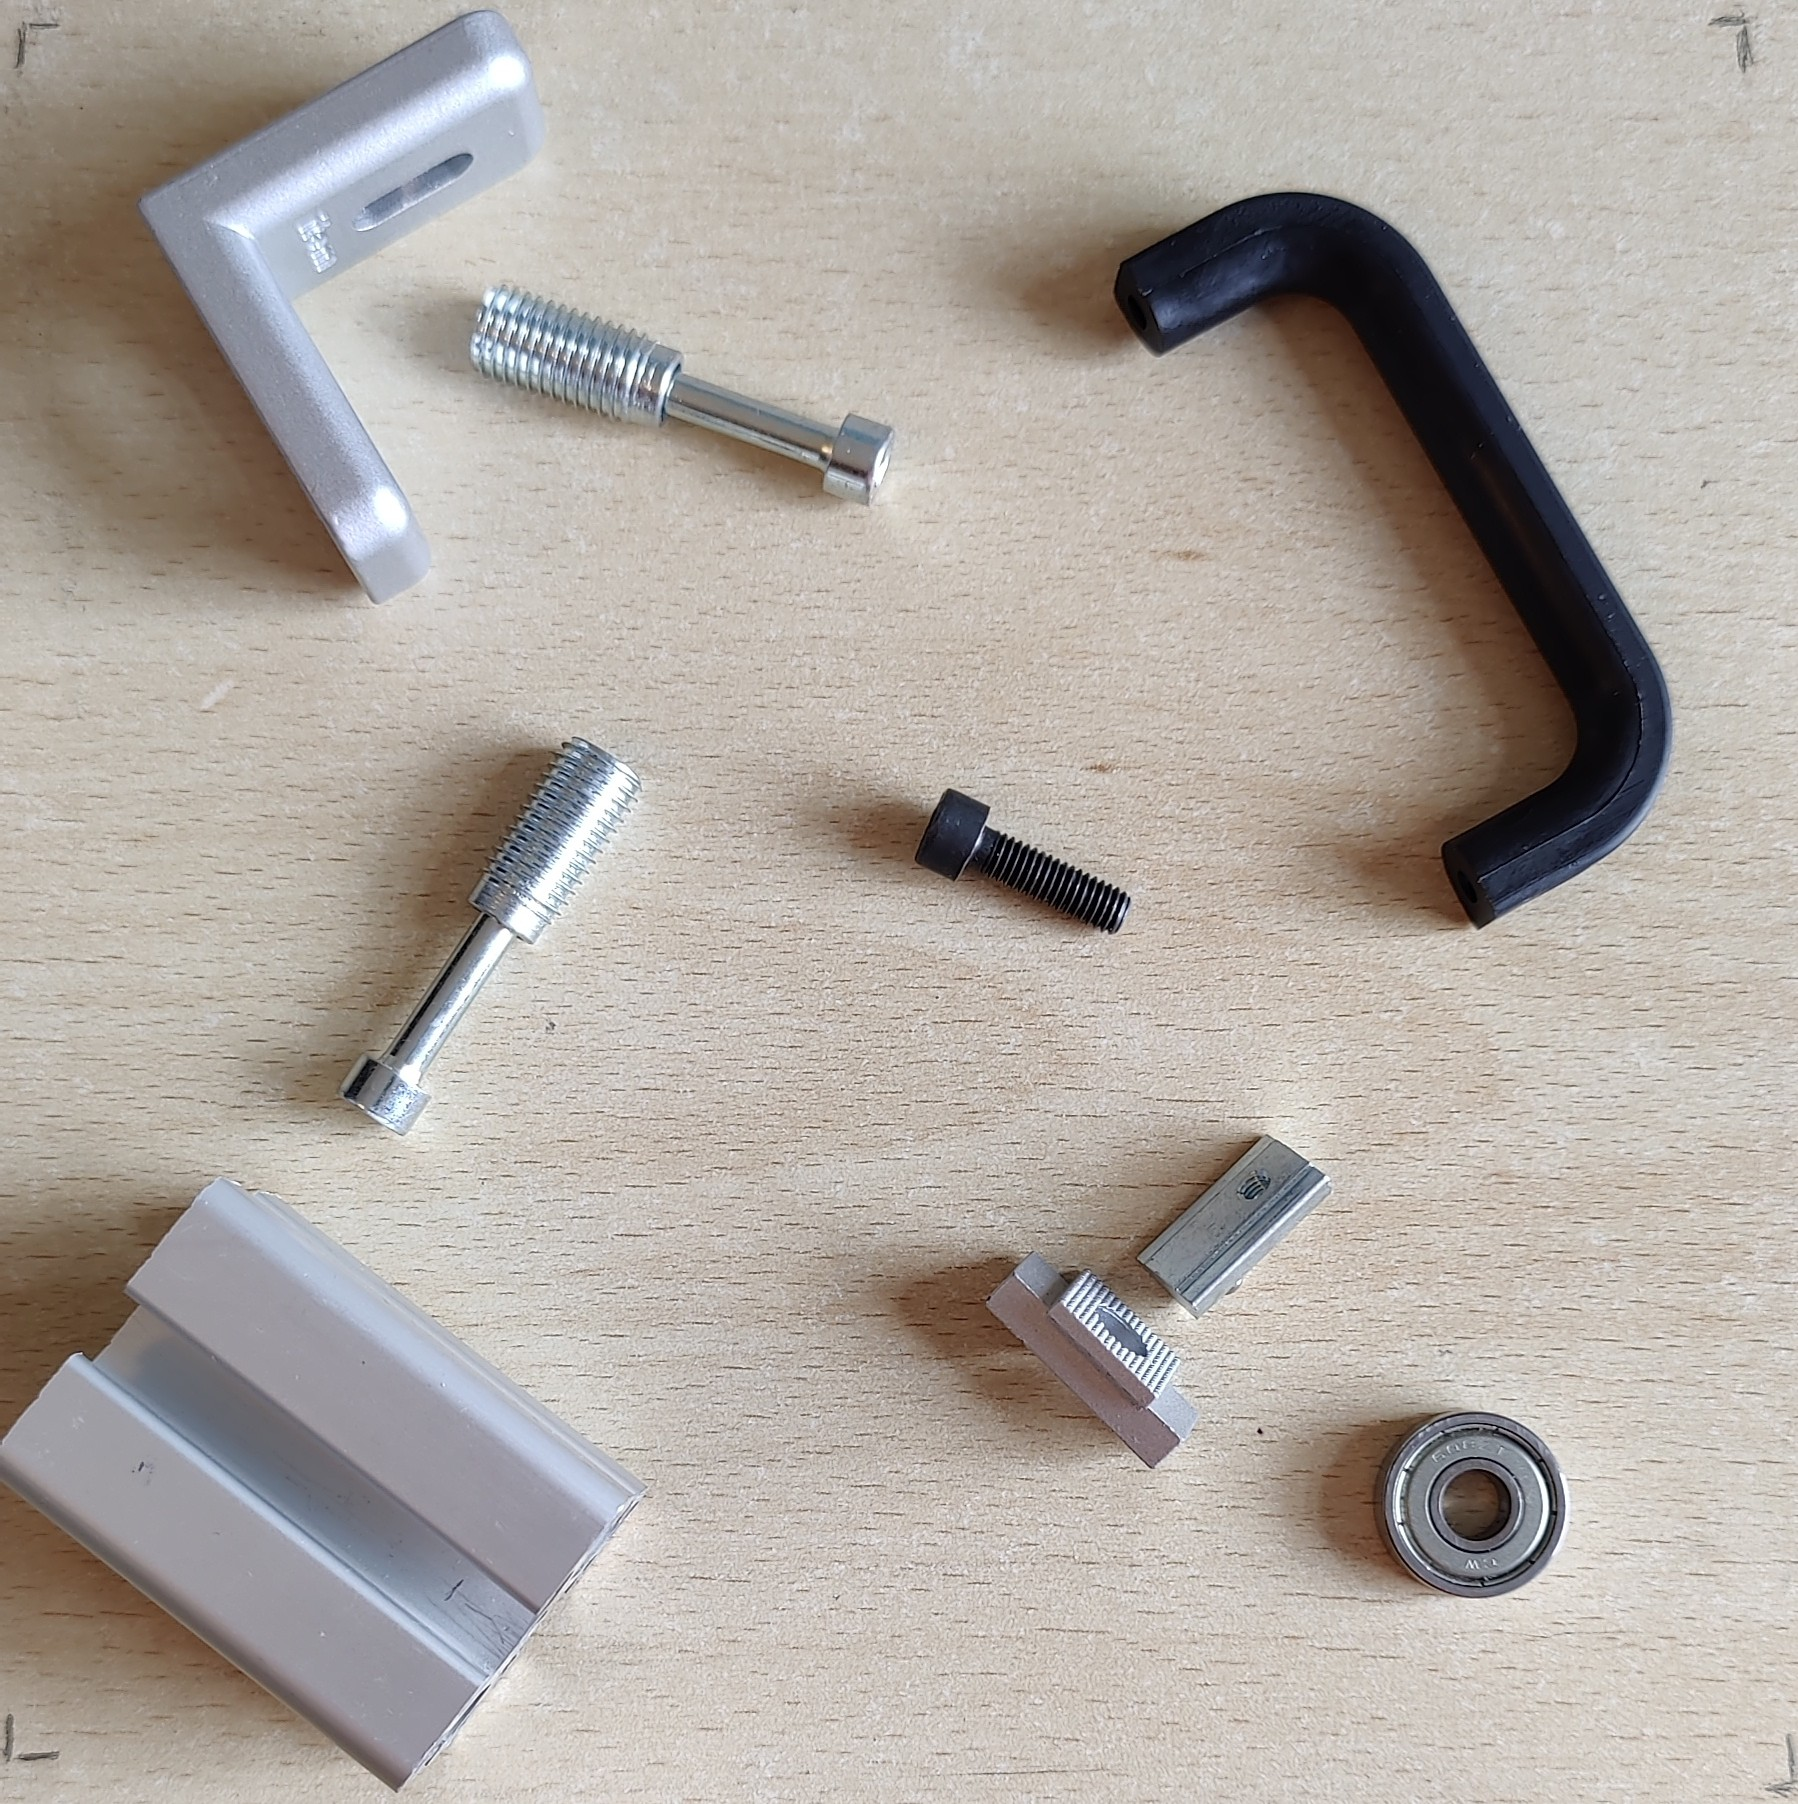Aluminium Extension: (2, 1174, 655, 1796)
Ball Bearing: (1370, 1411, 1566, 1598)
Multiwinkel: (137, 8, 545, 606)
Pull Handle: (1110, 186, 1676, 932)
Shoulder Socket Head Cap Screw: (336, 732, 644, 1137), (468, 280, 897, 510)
Socket Head Cap Screw: (911, 783, 1133, 937)
T Nut Square: (980, 1251, 1204, 1473)
T Spring Nut: (1134, 1131, 1332, 1322)
